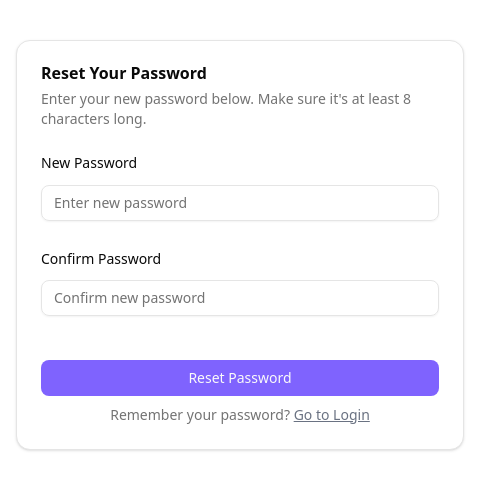
Test: ResetPasswordForm › shows error if passwords do not match
This screenshot has width=481, height=492.
Type "password123" into the password field labelled "New Password". click: (240, 202)
box: [41,184,439,220]
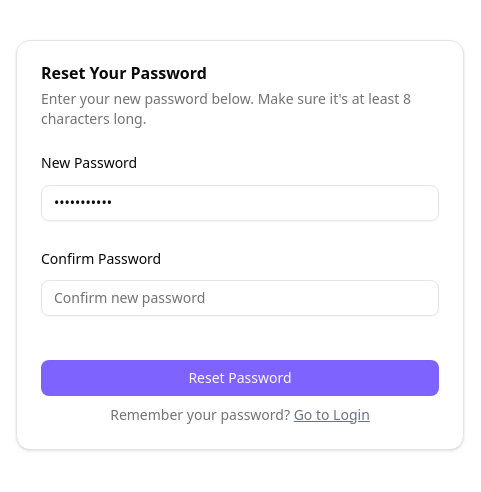
Type "different123" into the password field labelled "Confirm Password". click: (240, 298)
box: [41,280,439,316]
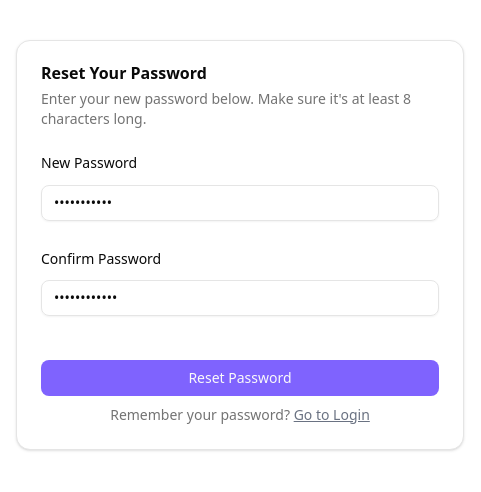
Click the button "Reset Password". click: (240, 378)
box: [41,360,439,396]
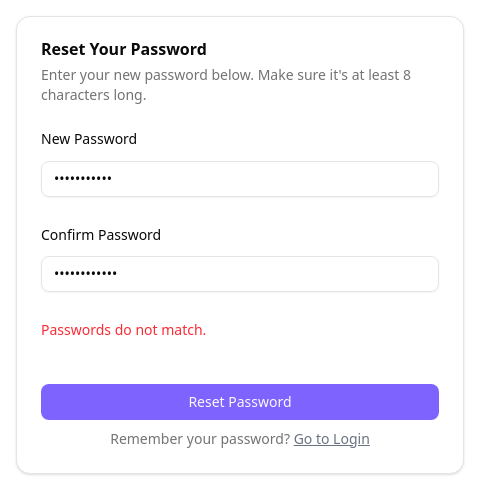
Result: the text "Passwords do not match." is shown at [41,320,206,339]
